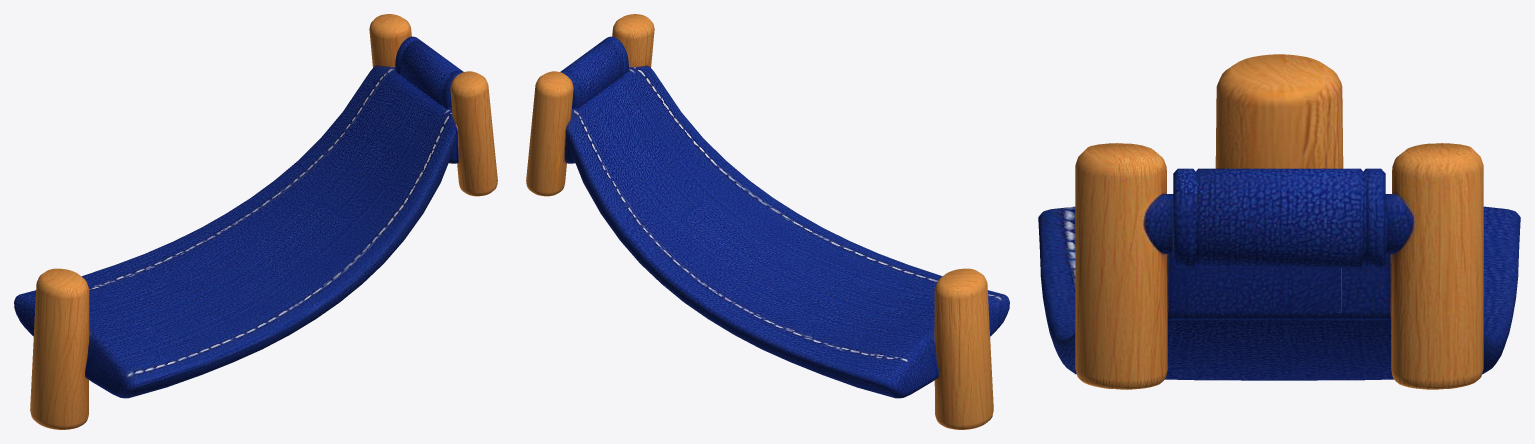
The model's file is belt-ramp.glb.
The picture shows the model from 3 angles, left to right: view 1: azimuth 30°, elevation 25°; view 2: azimuth 150°, elevation 25°; view 3: azimuth 270°, elevation 25°; orthographic projection. The views are drawn at different scales.
Visible parts, largest first — view 1: tripo_node_70185eba-d669-4558-8fe8-0aca0d17f9c3; view 2: tripo_node_70185eba-d669-4558-8fe8-0aca0d17f9c3; view 3: tripo_node_70185eba-d669-4558-8fe8-0aca0d17f9c3.
Part boxes in pixels (box(x1,y1,x2,y2)): tripo_node_70185eba-d669-4558-8fe8-0aca0d17f9c3: box(14, 14, 497, 429); tripo_node_70185eba-d669-4558-8fe8-0aca0d17f9c3: box(526, 14, 1009, 429); tripo_node_70185eba-d669-4558-8fe8-0aca0d17f9c3: box(1038, 54, 1520, 389).
Size of the model in its own units: 0.9995 by 0.6353 by 0.4966.
Materials: 1 (1 with a texture image).
